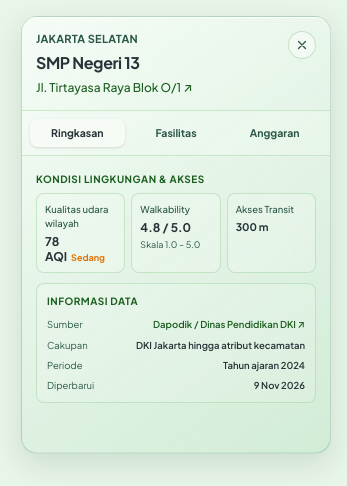
Test: FacilityDetailModal › menampilkan hero, tautan koordinat, dan navigasi tab
Expected: the heading "SMP Negeri 13" is shown, x1=36 y1=52 x2=140 y2=72
Click the tab "Fasilitas" at {"x": 176, "y": 133}, box x1=129 y1=119 x2=223 y2=147
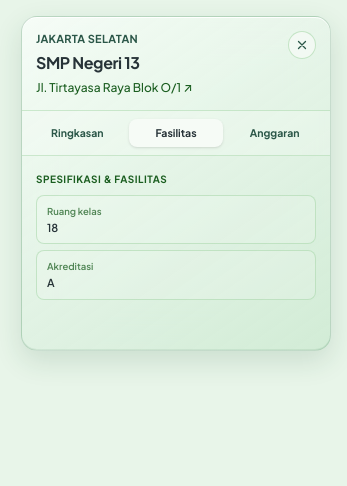
Expected: the text "Ruang kelas" is shown, x1=47 y1=205 x2=102 y2=217
Click the tab "Anggaran" at {"x": 275, "y": 133}, box x1=227 y1=119 x2=322 y2=147
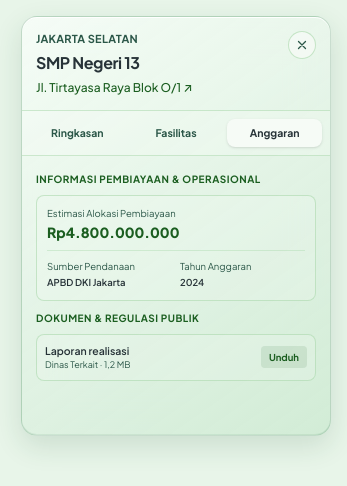
Expected: the text "Rp4.800.000.000" is shown, x1=47 y1=223 x2=179 y2=241
Expected: the text "Laporan realisasi" is shown, x1=45 y1=342 x2=130 y2=358
